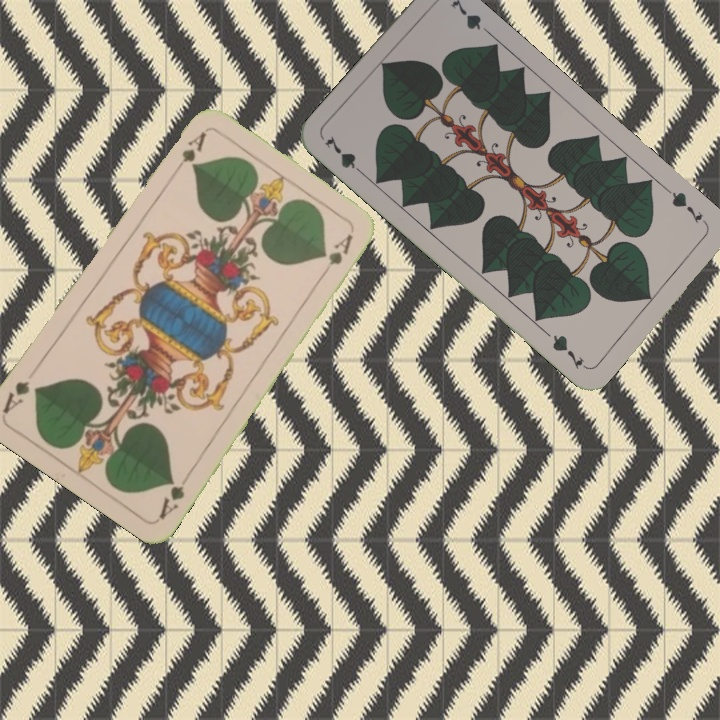G7: (320, 131, 369, 180), (662, 185, 711, 230)
GA: (167, 127, 209, 179), (154, 475, 187, 523)
